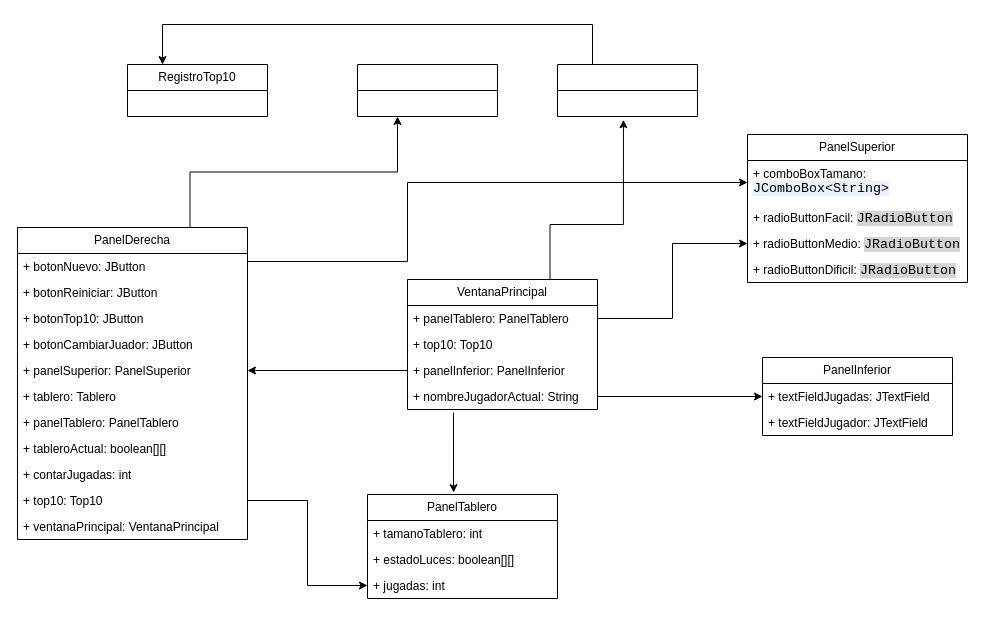
This 985x619 diagram has some shape labels left out. The centre of each missing label's shape, as x and y in pixels:
Tablero: point 427,90
Top10: point 627,90
